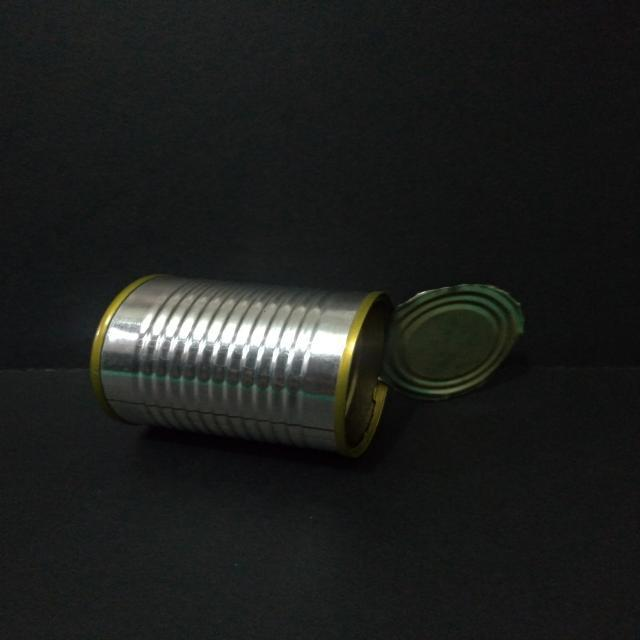metal-can: (84, 265, 528, 465)
